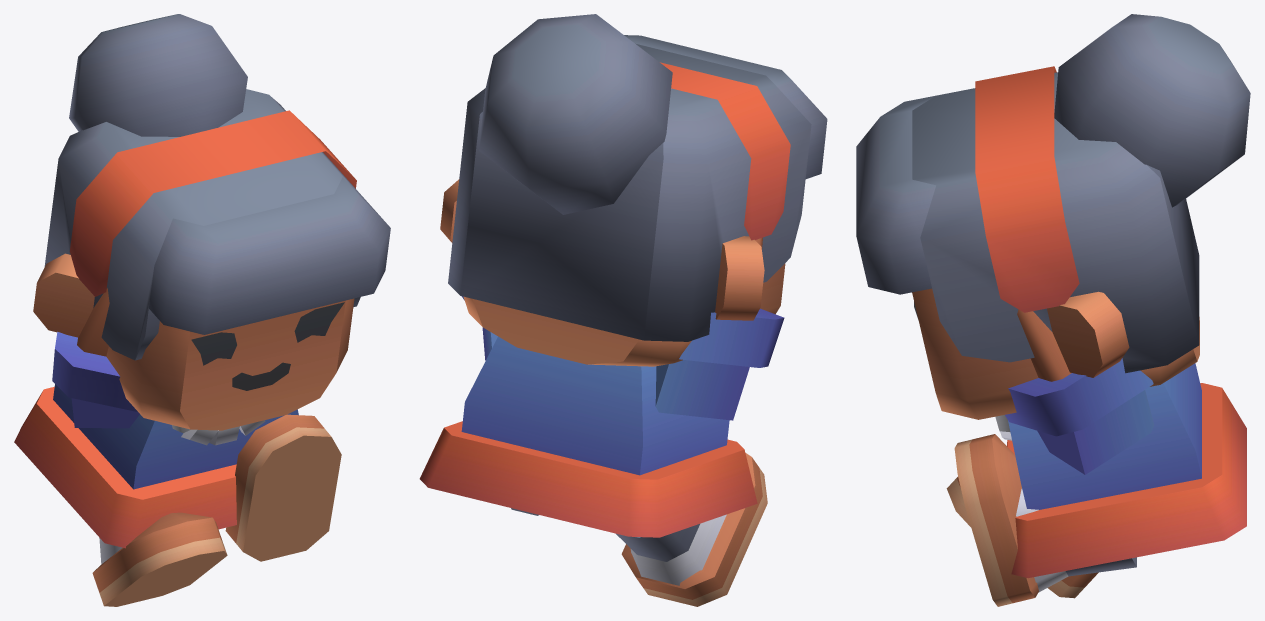
The model's file is walker-female-c-ride.glb.
The picture shows the model from 3 angles, left to right: view 1: azimuth 30°, elevation 25°; view 2: azimuth 150°, elevation 25°; view 3: azimuth 270°, elevation 25°; orthographic projection. The views are drawn at different scales.
Parts seen in each view (by area): view 1: character-female-c-ride; view 2: character-female-c-ride; view 3: character-female-c-ride.
Boxes of the visible parts, x1,y1,x2,y2 form: character-female-c-ride: [14, 14, 390, 606]; character-female-c-ride: [419, 14, 827, 606]; character-female-c-ride: [856, 14, 1250, 606].
Bounding box in the file's own units: 0.4535 × 0.7964 × 0.4825.
1 material, 1 textured.
